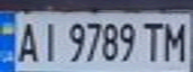7: (81, 19, 103, 63)
8: (100, 19, 121, 63)
9: (115, 19, 142, 63), (63, 18, 87, 63)
A: (12, 18, 42, 64)
I: (36, 18, 63, 63)
M: (160, 17, 190, 62)
T: (139, 18, 166, 63)
